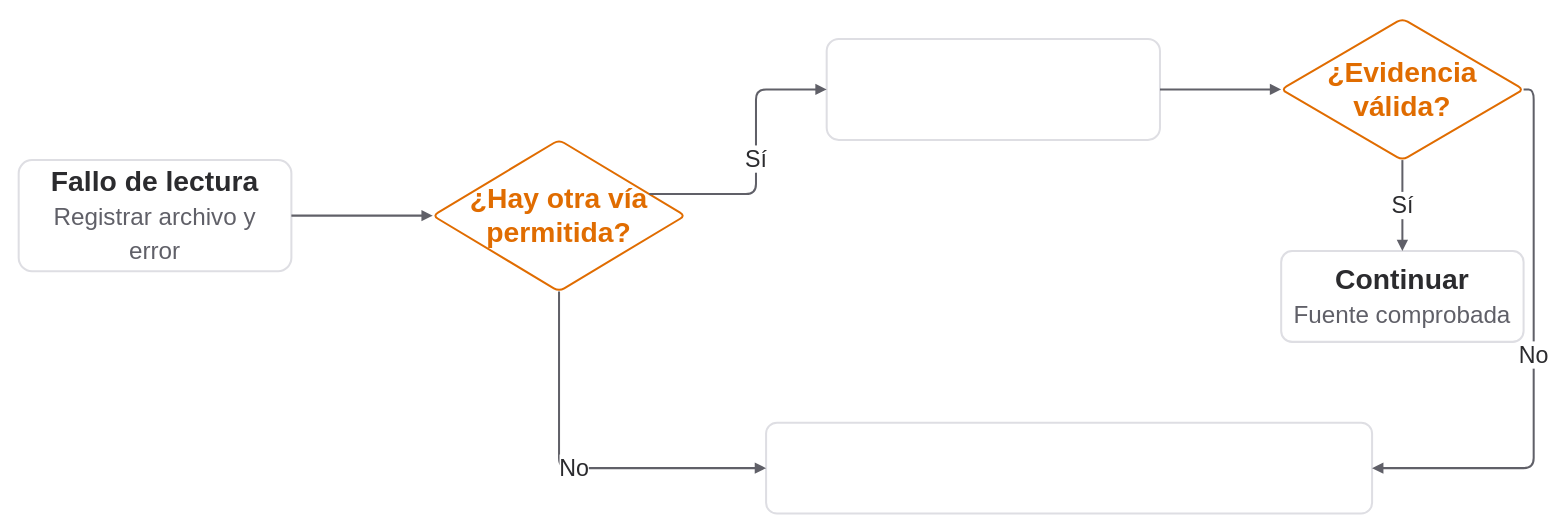
Image size: 1566x531. Some labels were removed from this diagram. The box of each missing label's shape, as (x1, y1, x2, y2) in pixels:
Guardar avance y detenerse Dejar el bloqueo y la información necesaria: (765, 421, 1373, 514)
Probar alternativa Con un límite de intentos: (825, 37, 1160, 140)
